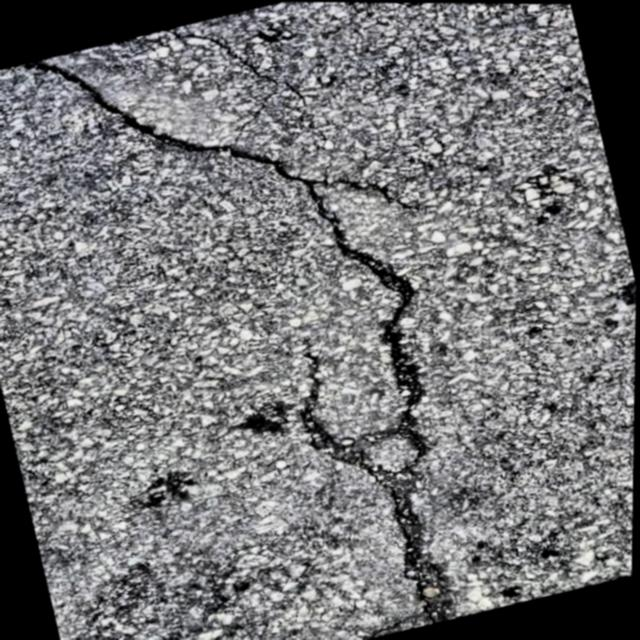Clogged Drains: (12, 31, 450, 623)
